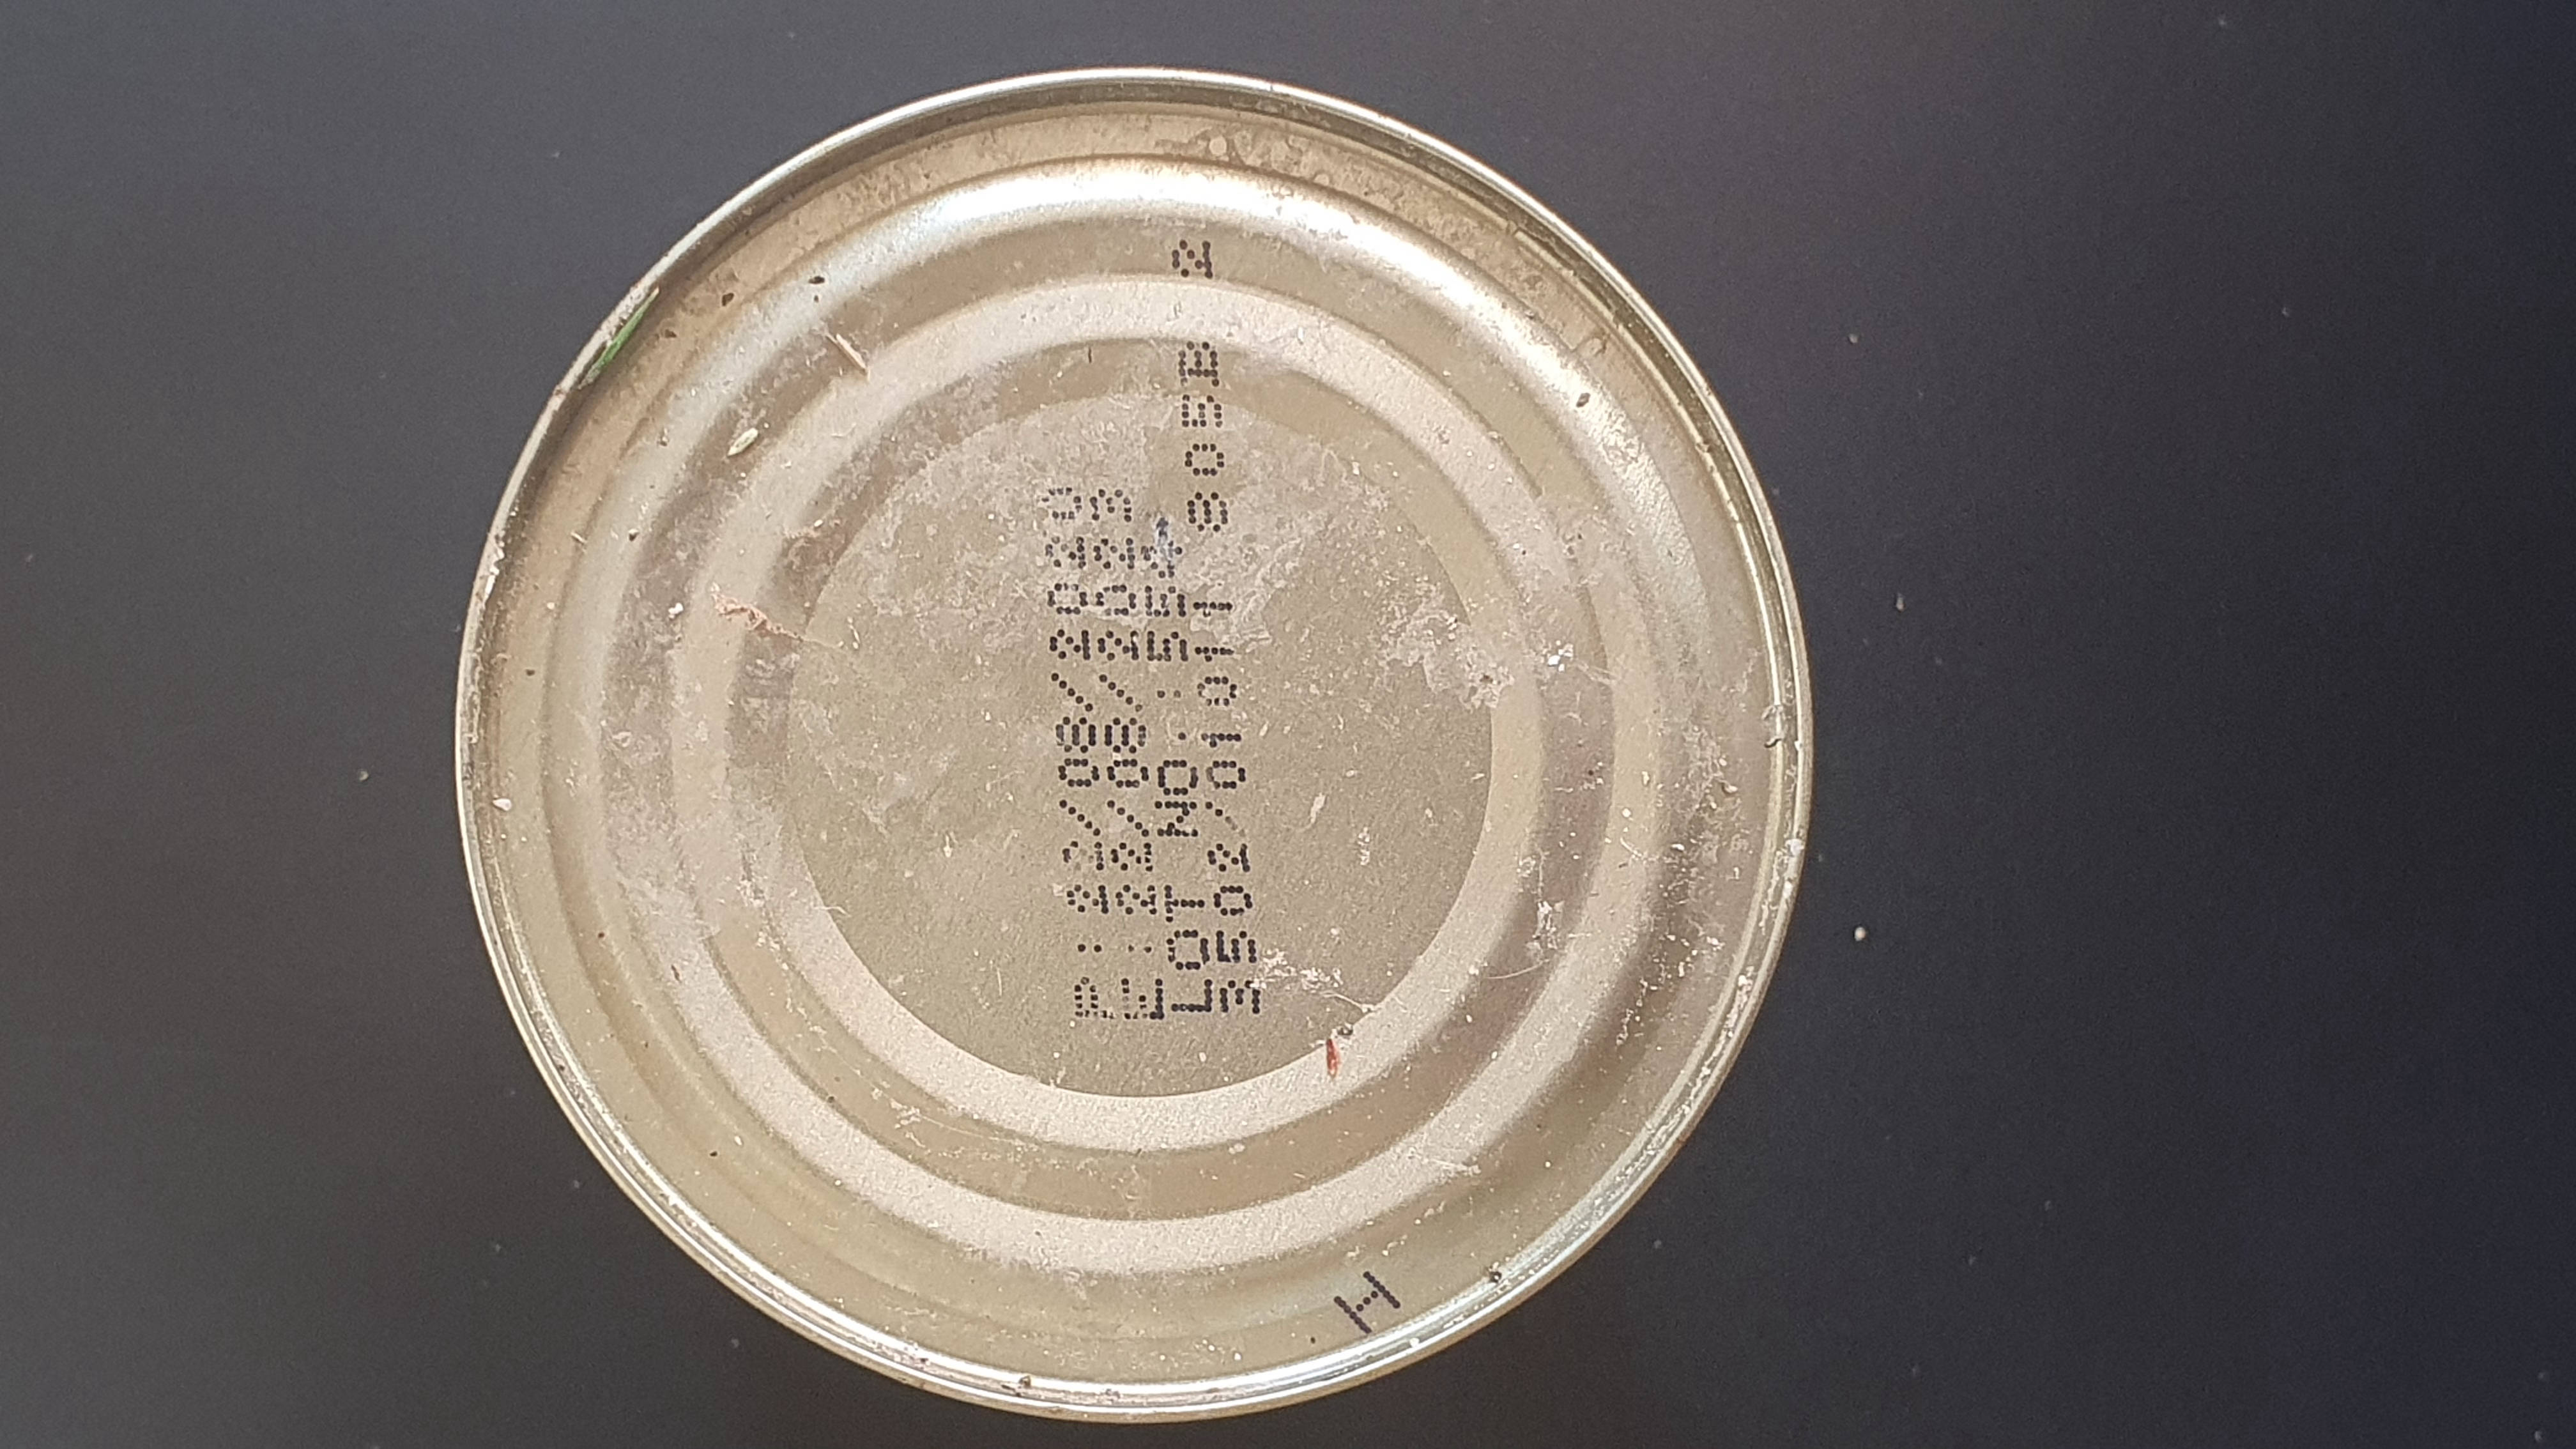metal: (393, 12, 1858, 1449)
